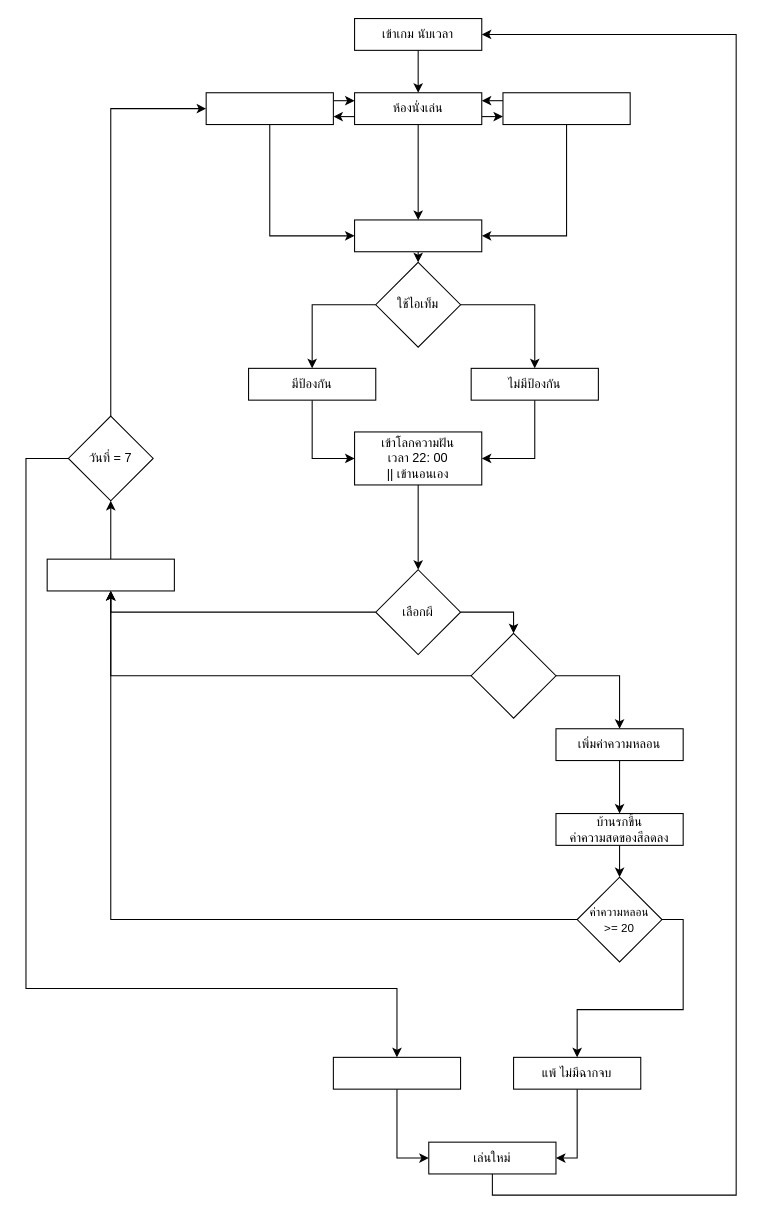
This 763x1222 diagram has some shape labels left out. The box of each missing label's shape, as (x1, y1, x2, y2) in pixels:
จบเกม เห็นฉากจบ: (332, 1056, 461, 1089)
ตื่นนอน: (46, 558, 174, 591)
มีไอเท็มไหม: (470, 632, 556, 718)
หาเบาะแส: (354, 219, 482, 252)
ห้องครัว: (502, 92, 630, 125)
ห้องนอน: (205, 92, 333, 125)
